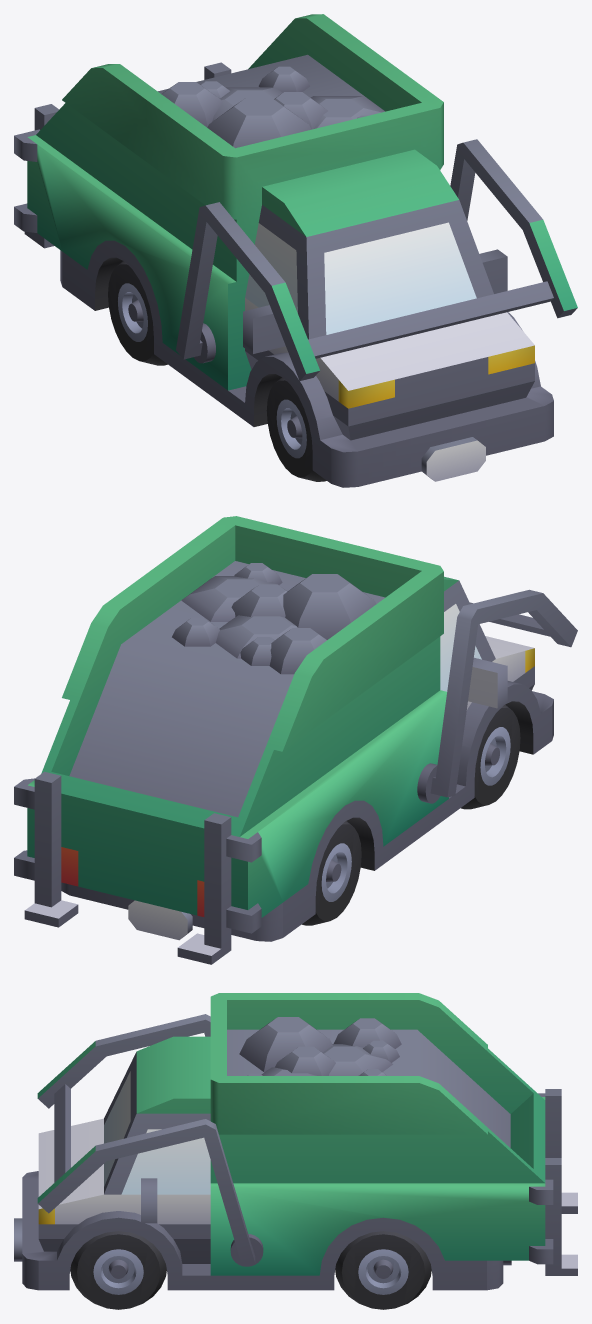
File: cc0-garbage-truck-lod0.glb
The picture shows the model from 3 angles, top to bottom: view 1: azimuth 30°, elevation 25°; view 2: azimuth 150°, elevation 25°; view 3: azimuth 270°, elevation 25°; orthographic projection. The views are drawn at different scales.
Parts seen in each view (by area): view 1: part_0; view 2: part_0; view 3: part_0.
Part boxes in pixels (left/top/right/bottom): part_0: left=14, top=14, right=577, bottom=487; part_0: left=14, top=516, right=577, bottom=964; part_0: left=14, top=993, right=577, bottom=1309.
Size of the model in its own units: 1.6 by 1.6 by 3.45.
Materials: 1 (1 with a texture image).
